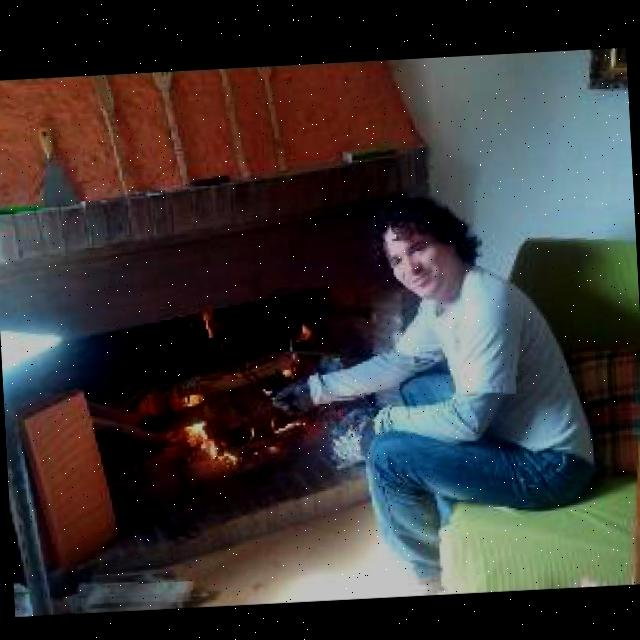fire: (157, 308, 319, 464)
